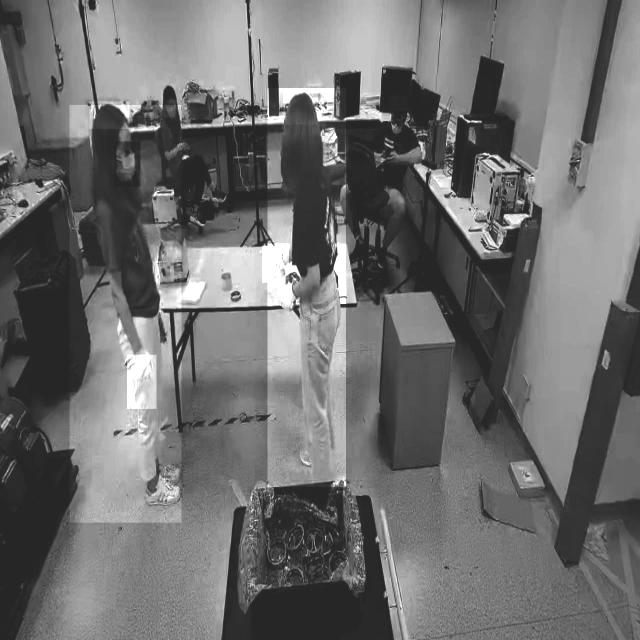face_mask: (114, 141, 140, 187), (389, 112, 405, 144)
face_nomask: (164, 100, 176, 118)
hand_glove: (127, 354, 157, 410), (262, 244, 289, 284), (280, 279, 298, 324)
hand_noglove: (176, 141, 190, 151)
head_nohelmet: (283, 91, 319, 125), (90, 101, 130, 130), (390, 96, 408, 112), (162, 84, 176, 98)
person: (70, 105, 182, 523), (268, 88, 346, 488), (154, 80, 226, 222), (364, 92, 424, 250)
shoes: (142, 473, 184, 511), (208, 178, 230, 205), (186, 201, 206, 229)
